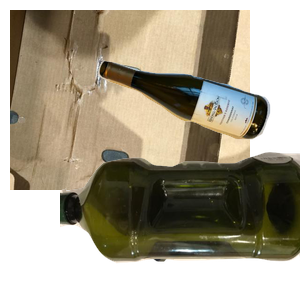cardboard: (10, 10, 250, 190)
glass: (95, 57, 300, 189)
plastic: (60, 149, 300, 300)
trash: (95, 157, 282, 300)
